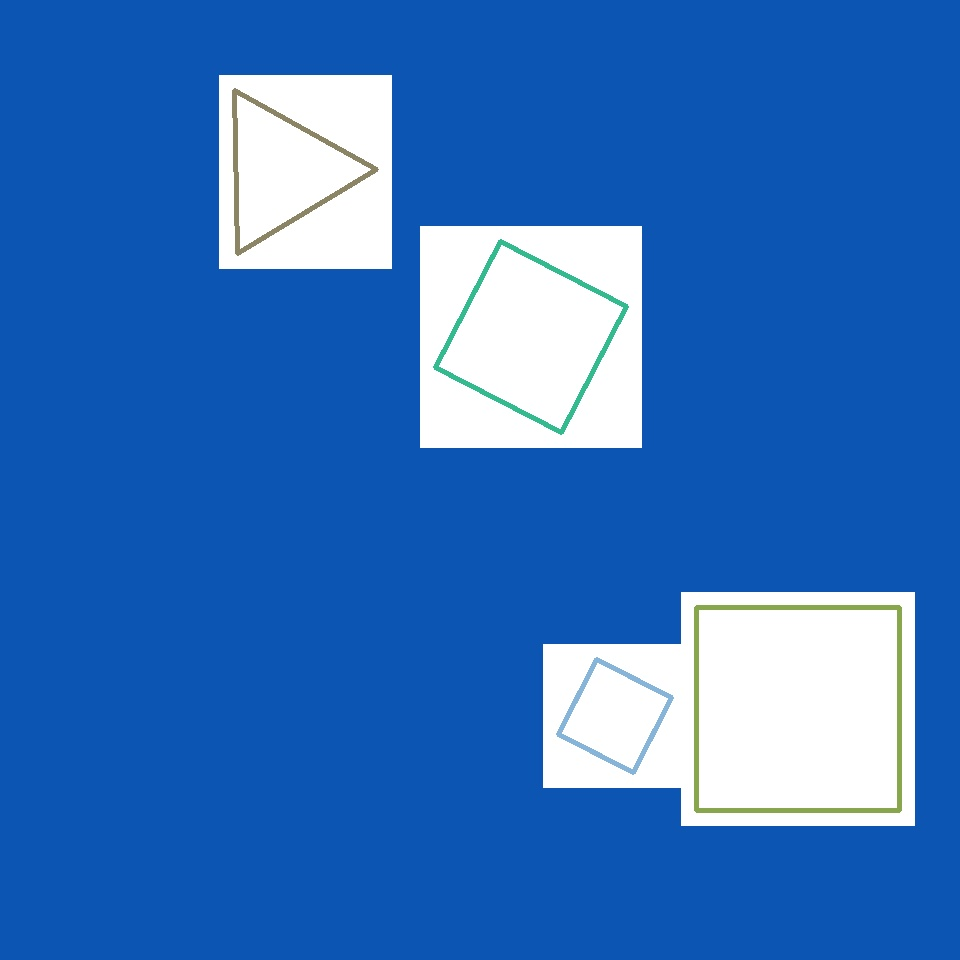circle: (463, 350, 752, 634), (446, 64, 708, 308), (292, 192, 479, 354), (212, 90, 354, 253)
square: (696, 608, 900, 810), (436, 241, 626, 432), (558, 660, 672, 772)
triangle: (178, 194, 548, 564), (530, 486, 654, 608)
